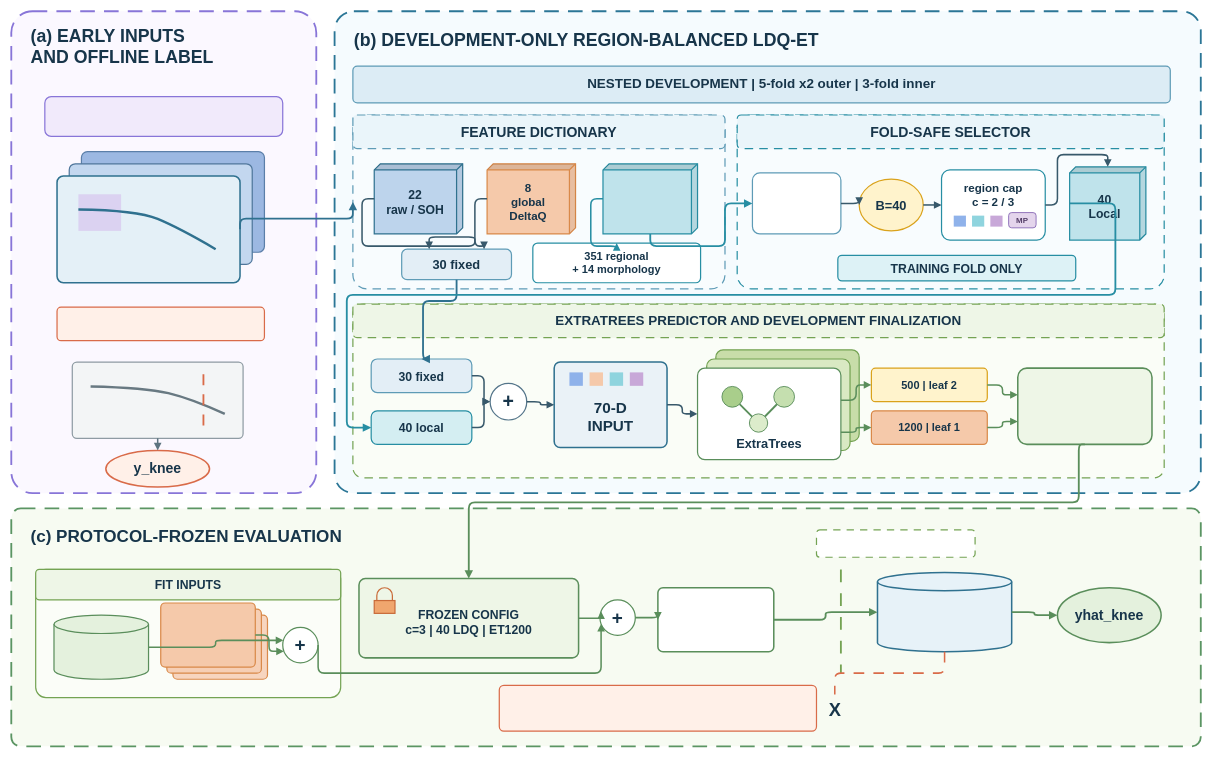
The diagram is 1212 pixels wide and 758 high, and some of its shapes have lost their labels. Each missing label, with the centre of its shape:
"30 SEEDS" goes at (x=208, y=634).
"365 Local DeltaQ" goes at (x=650, y=198).
"40 SECONDARY" goes at (x=944, y=611).
"5-fold x2 FINALIZATION" goes at (x=1084, y=406).
"83 DEV" goes at (x=101, y=647).
"FIT x30" goes at (x=715, y=619).
"full SOH" goes at (x=157, y=400).
"FULL SOH | LABEL ONLY" goes at (x=160, y=323).
"median impute" goes at (x=796, y=203).
"NO SECONDARY FEEDBACK impute | score | select | tune | fit" goes at (x=657, y=707).
"PREDICTOR INPUT CYCLES 1-150" goes at (x=163, y=116).
"PROTOCOL BOUNDARY" goes at (x=895, y=543).
"Q(V) + SOH" goes at (x=148, y=229).
